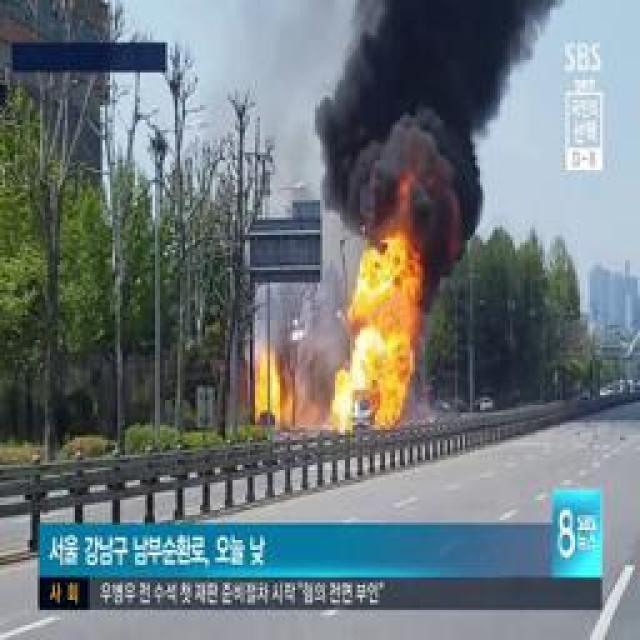Fire: (356, 267, 410, 408), (255, 375, 283, 417), (333, 380, 354, 428)
